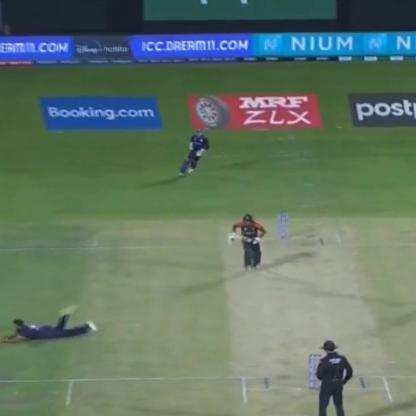pitch: (210, 222, 404, 413)
